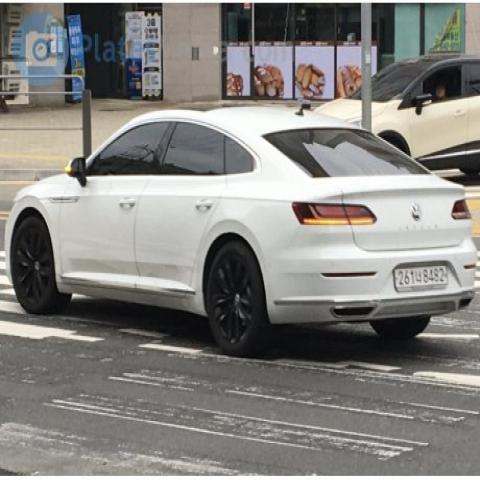LP: (386, 255, 456, 297)
